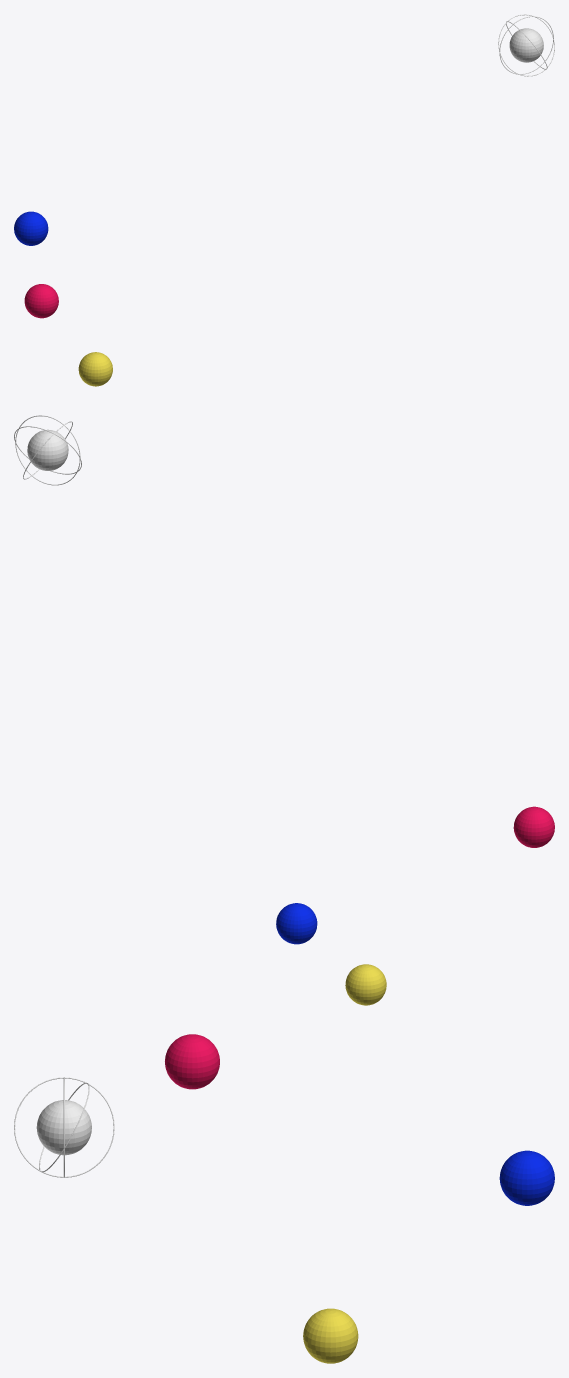
The model's file is mdanse_gui.glb.
The picture shows the model from 3 angles, top to bottom: view 1: azimuth 30°, elevation 25°; view 2: azimuth 150°, elevation 25°; view 3: azimuth 270°, elevation 25°; orthographic projection. The views are drawn at different scales.
Visible parts, largest first — view 1: Sphere.002, Sphere, Sphere.001, Sphere.003; view 2: Sphere.002, Sphere.003, Sphere.001, Sphere; view 3: Sphere.002, Sphere.003, Sphere.001, Sphere, BézierCircle.002.
Boxes of the visible parts, x1,y1,x2,y2 form: Sphere.002: [78, 352, 112, 386]; Sphere: [509, 28, 543, 62]; Sphere.001: [24, 284, 58, 318]; Sphere.003: [14, 211, 48, 245]; Sphere.002: [345, 964, 386, 1005]; Sphere.003: [276, 903, 317, 944]; Sphere.001: [513, 806, 554, 847]; Sphere: [27, 429, 68, 470]; Sphere.002: [303, 1308, 358, 1363]; Sphere.003: [499, 1150, 554, 1205]; Sphere.001: [165, 1034, 219, 1089]; Sphere: [36, 1100, 91, 1155]; BézierCircle.002: [14, 1077, 114, 1177].
Size of the model in its own units: 32.65 by 22.01 by 19.55.
